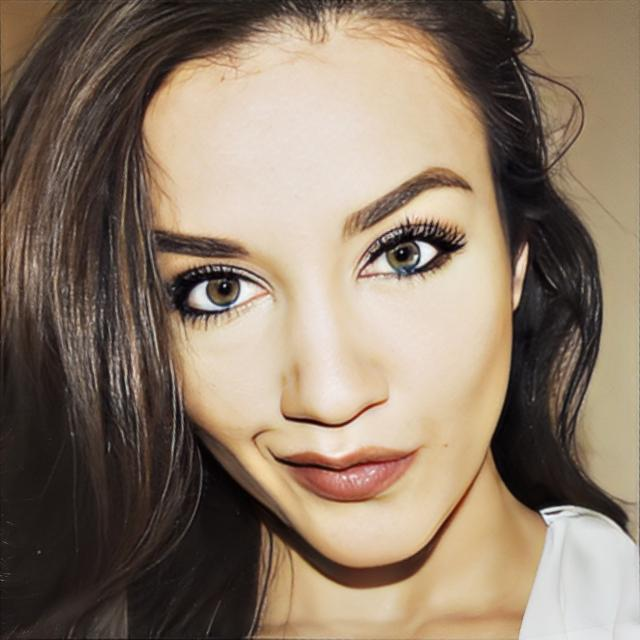content: (138, 13, 511, 571)
